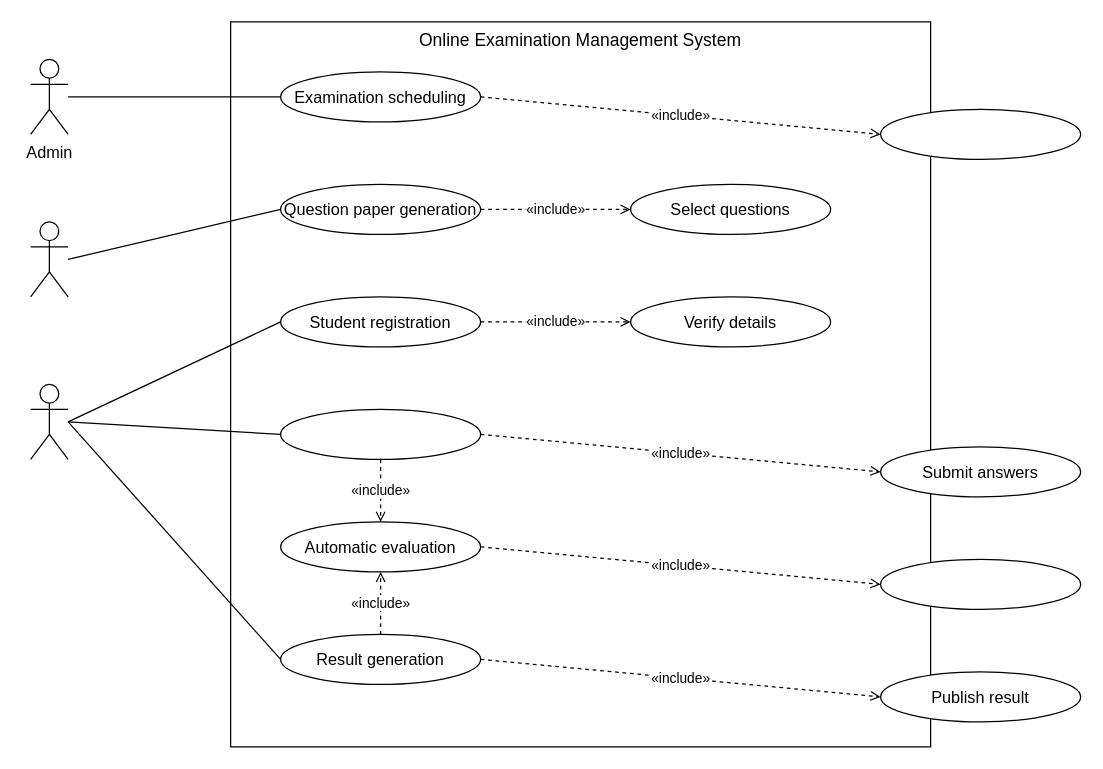
Some shapes in this 1103 by 769 pixel diagram are drawn without their labels. Each missing label, with the centre of its shape:
"Calculate marks" goes at (980,583).
"Faculty" goes at (48,259).
"Notify students" goes at (980,133).
"Online examination" goes at (380,433).
"Student" goes at (48,421).
